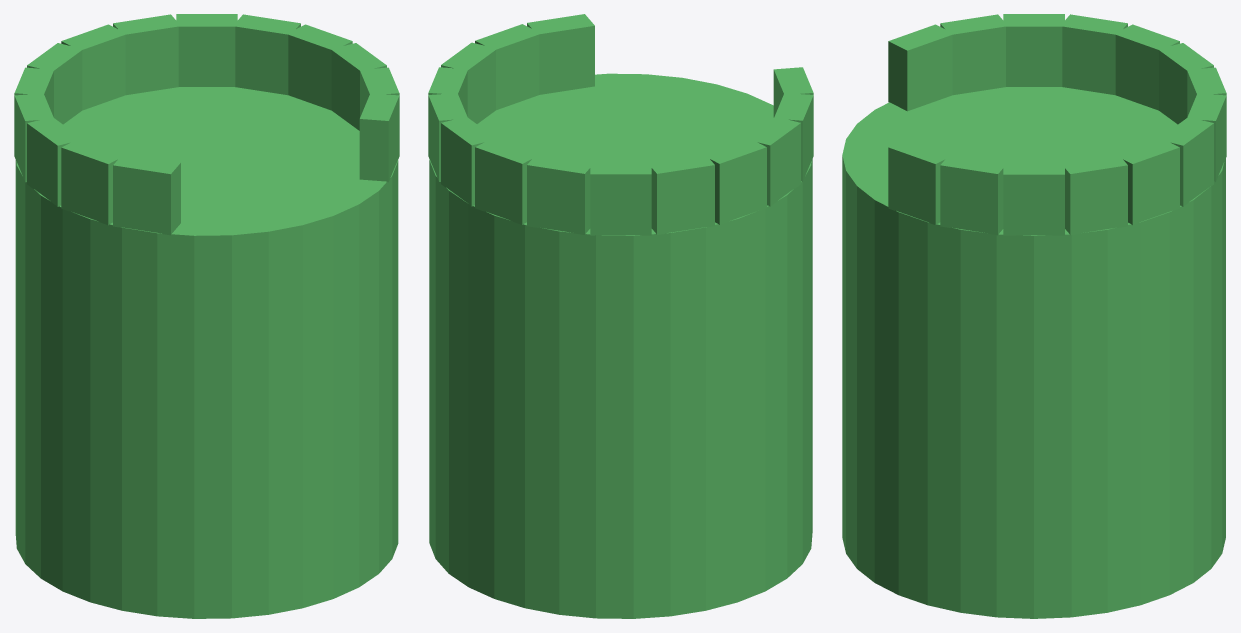
Rendered from fortress_round_tower_walkable_collision.glb.
3 renders of one model, left to right at view 1: azimuth 30°, elevation 25°; view 2: azimuth 150°, elevation 25°; view 3: azimuth 270°, elevation 25°, orthographic.
Parts seen in each view (by area): view 1: fortress_round_tower_walkable-col-core, fortress_round_tower_walkable-col-parapet-11, fortress_round_tower_walkable-col-parapet-3, fortress_round_tower_walkable-col-parapet-4, fortress_round_tower_walkable-col-parapet-2, fortress_round_tower_walkable-col-parapet-10, fortress_round_tower_walkable-col-parapet-1, fortress_round_tower_walkable-col-parapet-5, fortress_round_tower_walkable-col-parapet-16, fortress_round_tower_walkable-col-parapet-9, fortress_round_tower_walkable-col-parapet-0, fortress_round_tower_walkable-col-parapet-6 (+3 smaller); view 2: fortress_round_tower_walkable-col-core, fortress_round_tower_walkable-col-parapet-5, fortress_round_tower_walkable-col-parapet-7, fortress_round_tower_walkable-col-parapet-6, fortress_round_tower_walkable-col-parapet-16, fortress_round_tower_walkable-col-parapet-8, fortress_round_tower_walkable-col-parapet-4, fortress_round_tower_walkable-col-parapet-17, fortress_round_tower_walkable-col-parapet-3, fortress_round_tower_walkable-col-parapet-9, fortress_round_tower_walkable-col-parapet-0, fortress_round_tower_walkable-col-parapet-10 (+3 smaller); view 3: fortress_round_tower_walkable-col-core, fortress_round_tower_walkable-col-parapet-11, fortress_round_tower_walkable-col-parapet-17, fortress_round_tower_walkable-col-parapet-1, fortress_round_tower_walkable-col-parapet-0, fortress_round_tower_walkable-col-parapet-9, fortress_round_tower_walkable-col-parapet-10, fortress_round_tower_walkable-col-parapet-8, fortress_round_tower_walkable-col-parapet-16, fortress_round_tower_walkable-col-parapet-2, fortress_round_tower_walkable-col-parapet-7, fortress_round_tower_walkable-col-parapet-3 (+3 smaller).
Boxes of the visible parts, <box> form: fortress_round_tower_walkable-col-core: <box>15,87,398,618</box>; fortress_round_tower_walkable-col-parapet-11: <box>113,154,180,235</box>; fortress_round_tower_walkable-col-parapet-3: <box>176,14,237,86</box>; fortress_round_tower_walkable-col-parapet-4: <box>113,14,179,95</box>; fortress_round_tower_walkable-col-parapet-2: <box>233,14,300,95</box>; fortress_round_tower_walkable-col-parapet-10: <box>61,139,126,225</box>; fortress_round_tower_walkable-col-parapet-1: <box>287,24,352,110</box>; fortress_round_tower_walkable-col-parapet-5: <box>61,24,125,110</box>; fortress_round_tower_walkable-col-parapet-16: <box>359,93,399,182</box>; fortress_round_tower_walkable-col-parapet-9: <box>27,117,82,206</box>; fortress_round_tower_walkable-col-parapet-0: <box>331,43,386,130</box>; fortress_round_tower_walkable-col-parapet-6: <box>27,43,82,124</box>; fortress_round_tower_walkable-col-core: <box>429,73,812,618</box>; fortress_round_tower_walkable-col-parapet-5: <box>527,153,594,234</box>; fortress_round_tower_walkable-col-parapet-7: <box>647,153,714,234</box>; fortress_round_tower_walkable-col-parapet-6: <box>590,162,651,235</box>; fortress_round_tower_walkable-col-parapet-16: <box>527,14,594,94</box>; fortress_round_tower_walkable-col-parapet-8: <box>701,138,766,224</box>; fortress_round_tower_walkable-col-parapet-4: <box>475,138,540,224</box>; fortress_round_tower_walkable-col-parapet-17: <box>475,24,539,110</box>; fortress_round_tower_walkable-col-parapet-3: <box>441,117,496,206</box>; fortress_round_tower_walkable-col-parapet-9: <box>745,118,800,206</box>; fortress_round_tower_walkable-col-parapet-0: <box>441,42,496,123</box>; fortress_round_tower_walkable-col-parapet-10: <box>774,93,813,181</box>; fortress_round_tower_walkable-col-core: <box>842,87,1225,618</box>; fortress_round_tower_walkable-col-parapet-11: <box>888,24,953,111</box>; fortress_round_tower_walkable-col-parapet-17: <box>940,153,1007,235</box>; fortress_round_tower_walkable-col-parapet-1: <box>1060,153,1127,235</box>; fortress_round_tower_walkable-col-parapet-0: <box>1003,162,1064,235</box>; fortress_round_tower_walkable-col-parapet-9: <box>1003,14,1064,86</box>; fortress_round_tower_walkable-col-parapet-10: <box>940,14,1007,95</box>; fortress_round_tower_walkable-col-parapet-8: <box>1061,14,1127,95</box>; fortress_round_tower_walkable-col-parapet-16: <box>888,138,953,225</box>; fortress_round_tower_walkable-col-parapet-2: <box>1115,138,1179,225</box>; fortress_round_tower_walkable-col-parapet-7: <box>1115,24,1179,110</box>; fortress_round_tower_walkable-col-parapet-3: <box>1158,117,1213,206</box>.
Bounding box in the file's own units: 6.48 × 8.27 × 6.49.
